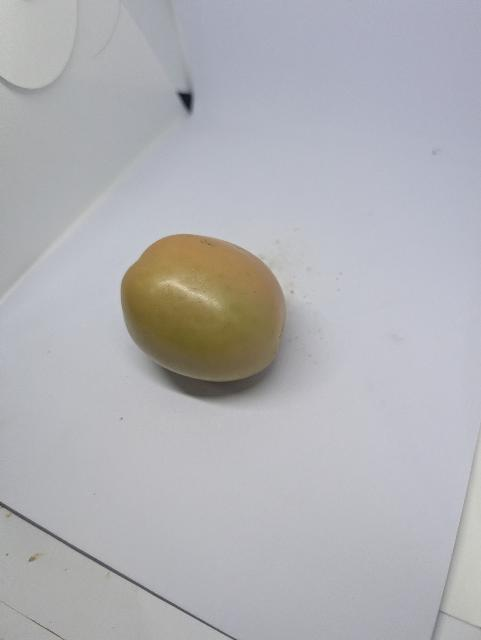breaker: (121, 235, 286, 381)
